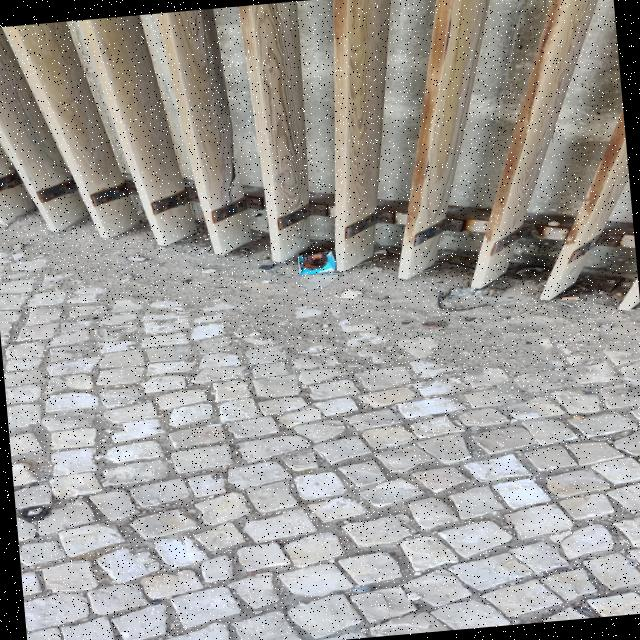Cigarette: (559, 296, 578, 300)
Drink carton: (299, 250, 336, 275)
Other plastic bottle: (473, 280, 494, 294)
Plastic straw: (329, 270, 332, 272)
